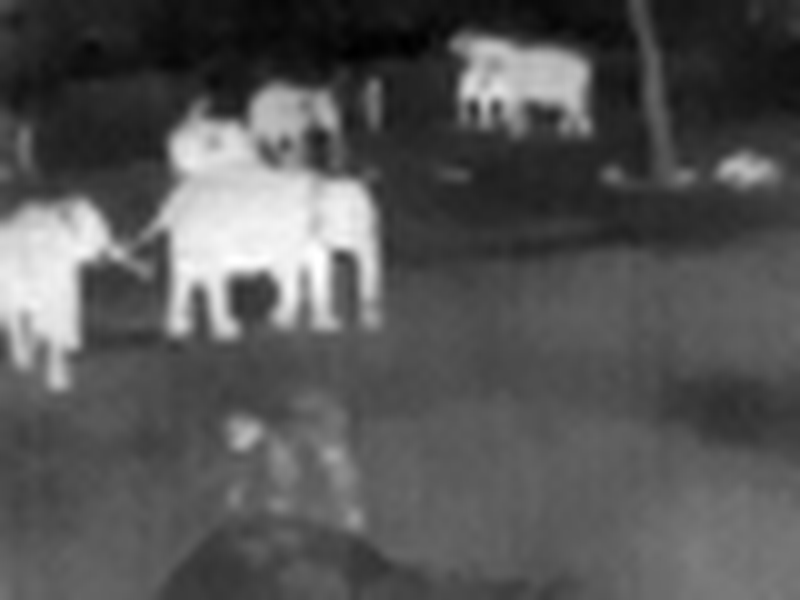elephant: (13, 178, 436, 340), (129, 43, 647, 164)
